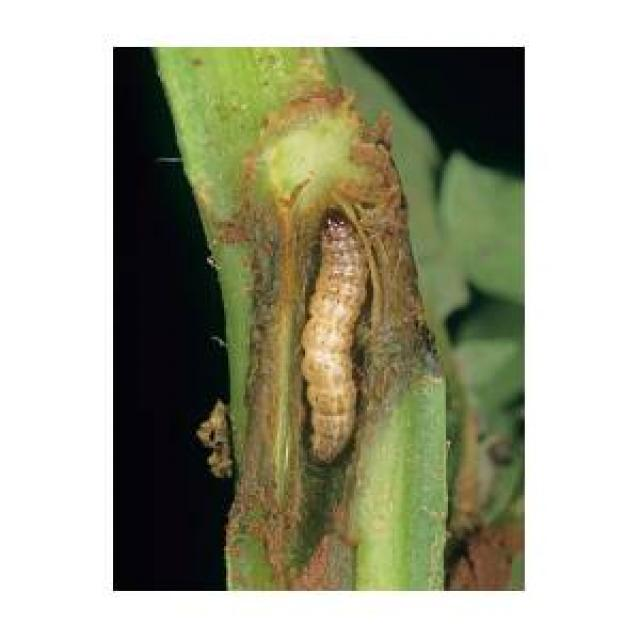cornborer-Larva-: (281, 194, 389, 474)
